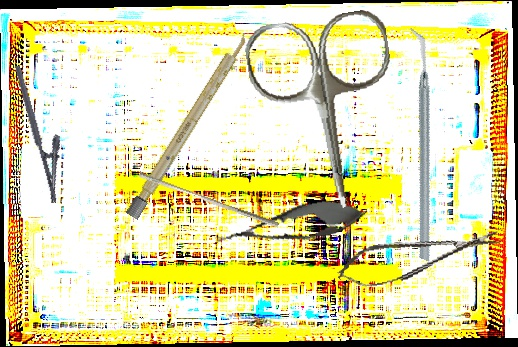Chopper: (327, 27, 513, 263)
Iris Scissors: (241, 7, 413, 219)
Micro Scissor: (333, 221, 505, 293), (210, 191, 371, 260)
Needle Holder: (14, 60, 76, 204)
Pusher: (136, 171, 282, 228)
Scalpel Handle: (125, 30, 252, 220)
